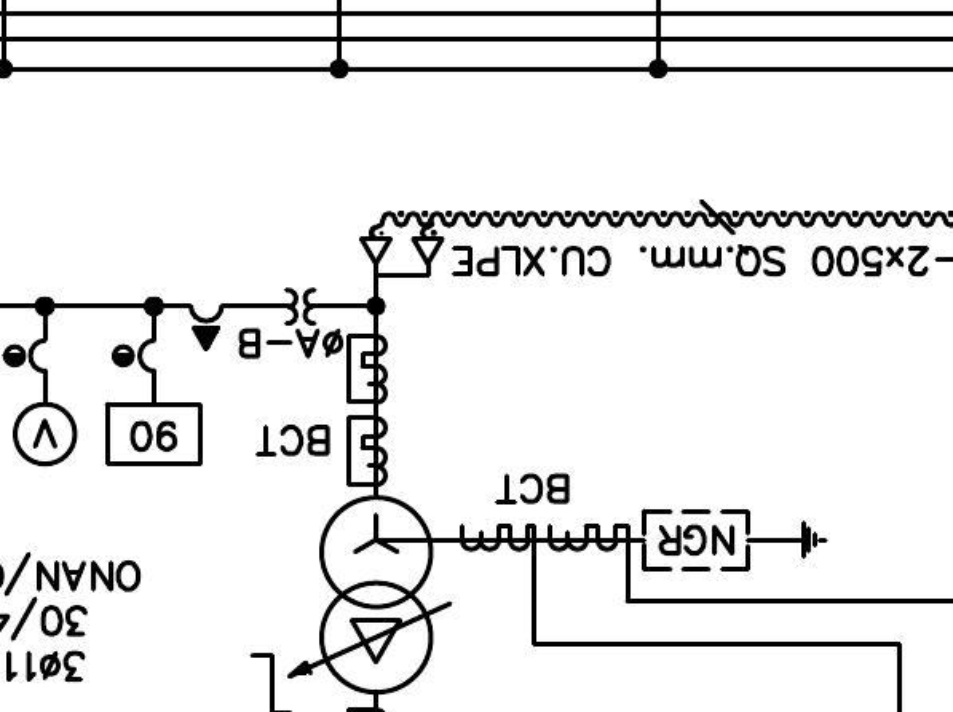11522_tx_dyn1: (318, 494, 435, 696)
NGR_future: (641, 508, 829, 573)
terminator_double: (359, 236, 445, 279)
v_m: (11, 401, 80, 468)
